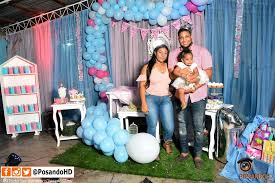person: (174, 25, 208, 63), (144, 44, 172, 80)
